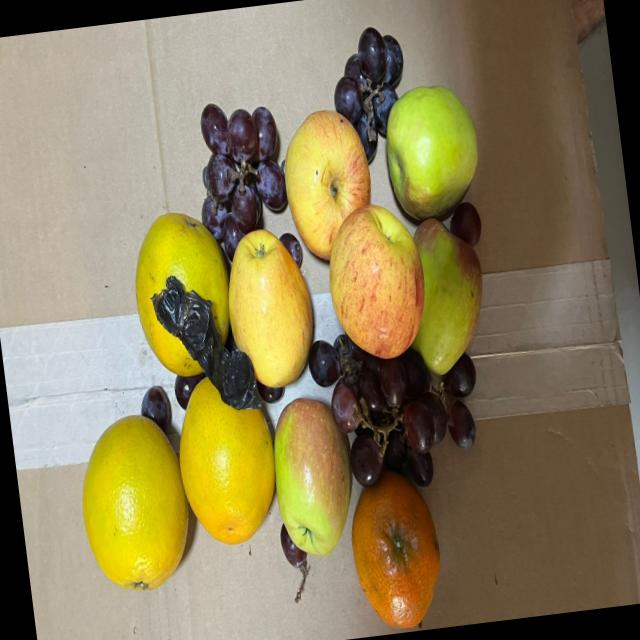bolsa_negra: (158, 275, 261, 417)
